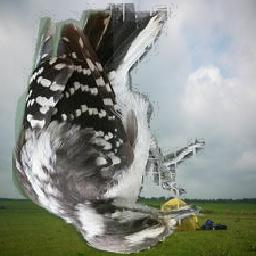Woodpecker: (13, 4, 206, 255)
